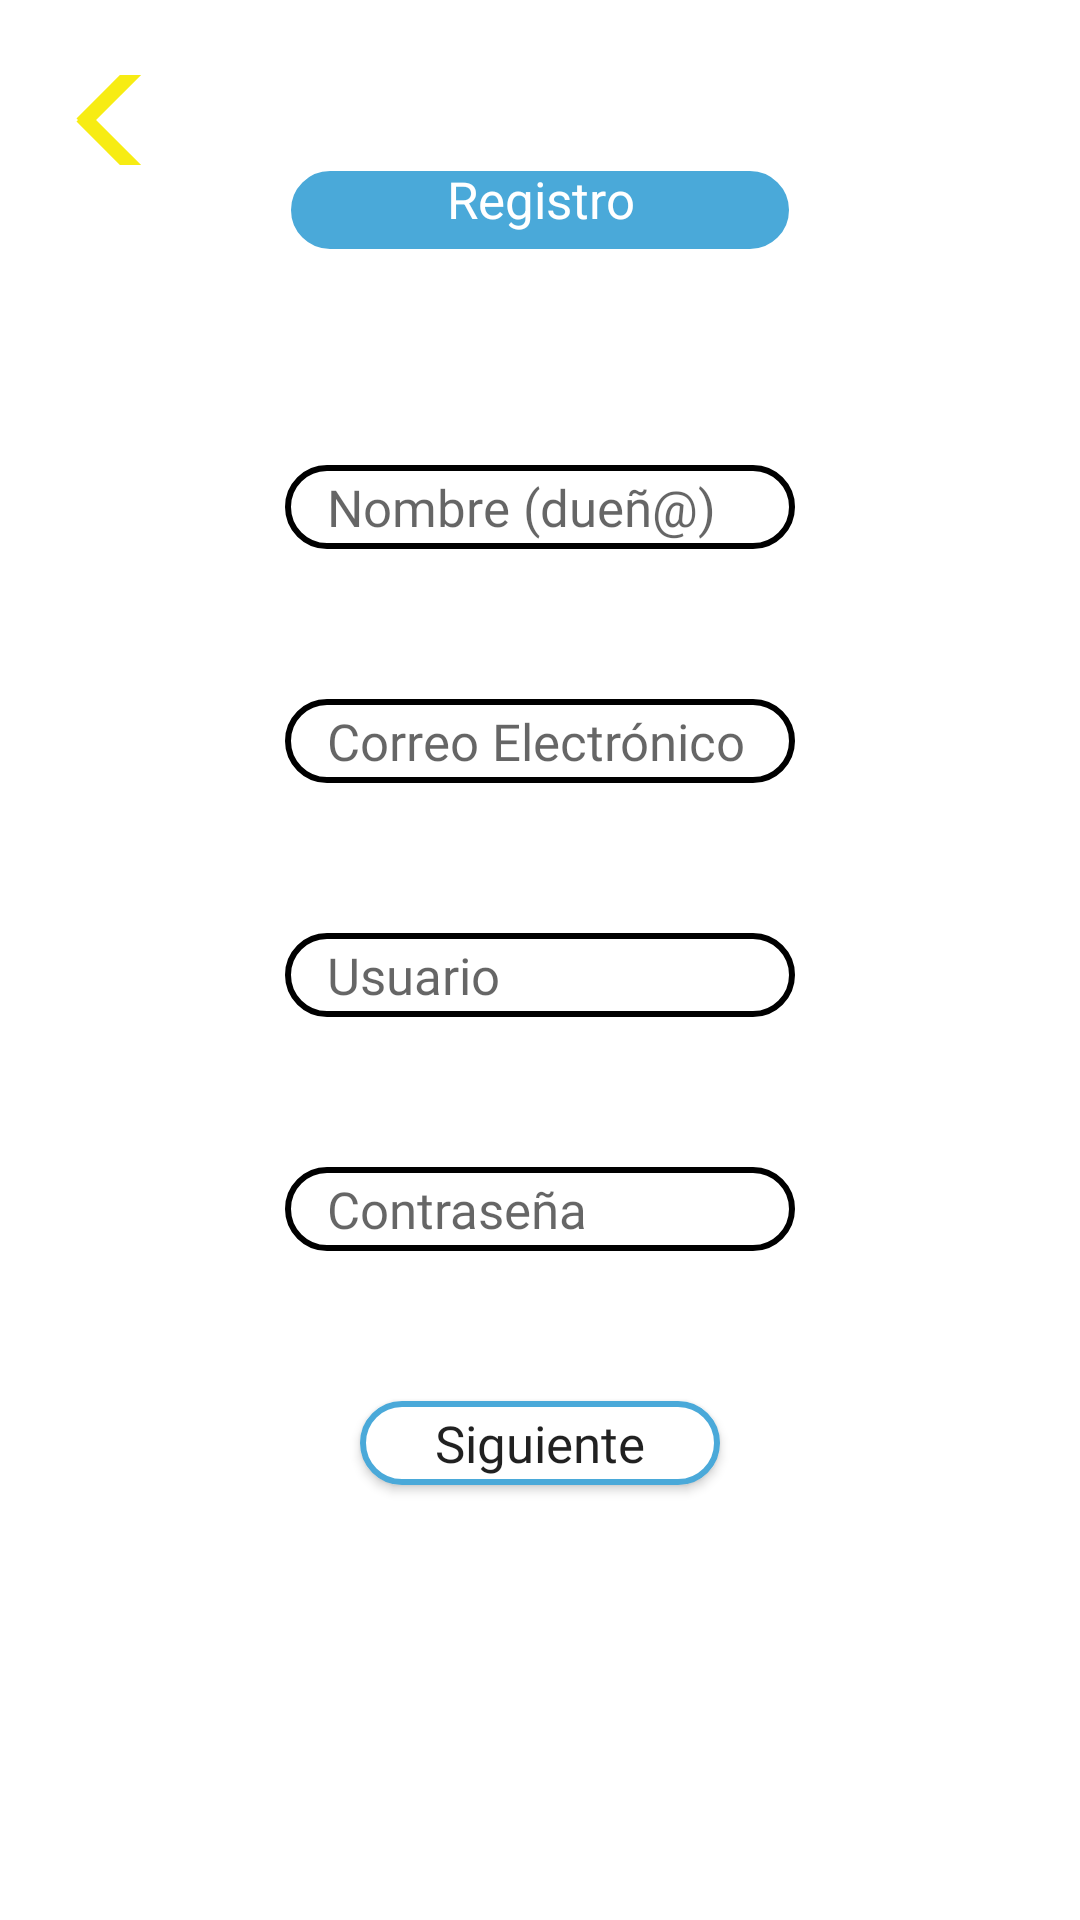

Icons on this 1080 × 1920 Android screen, each with its box as (x1, y1, x2, y2):
flecha: (76, 75, 141, 165)
